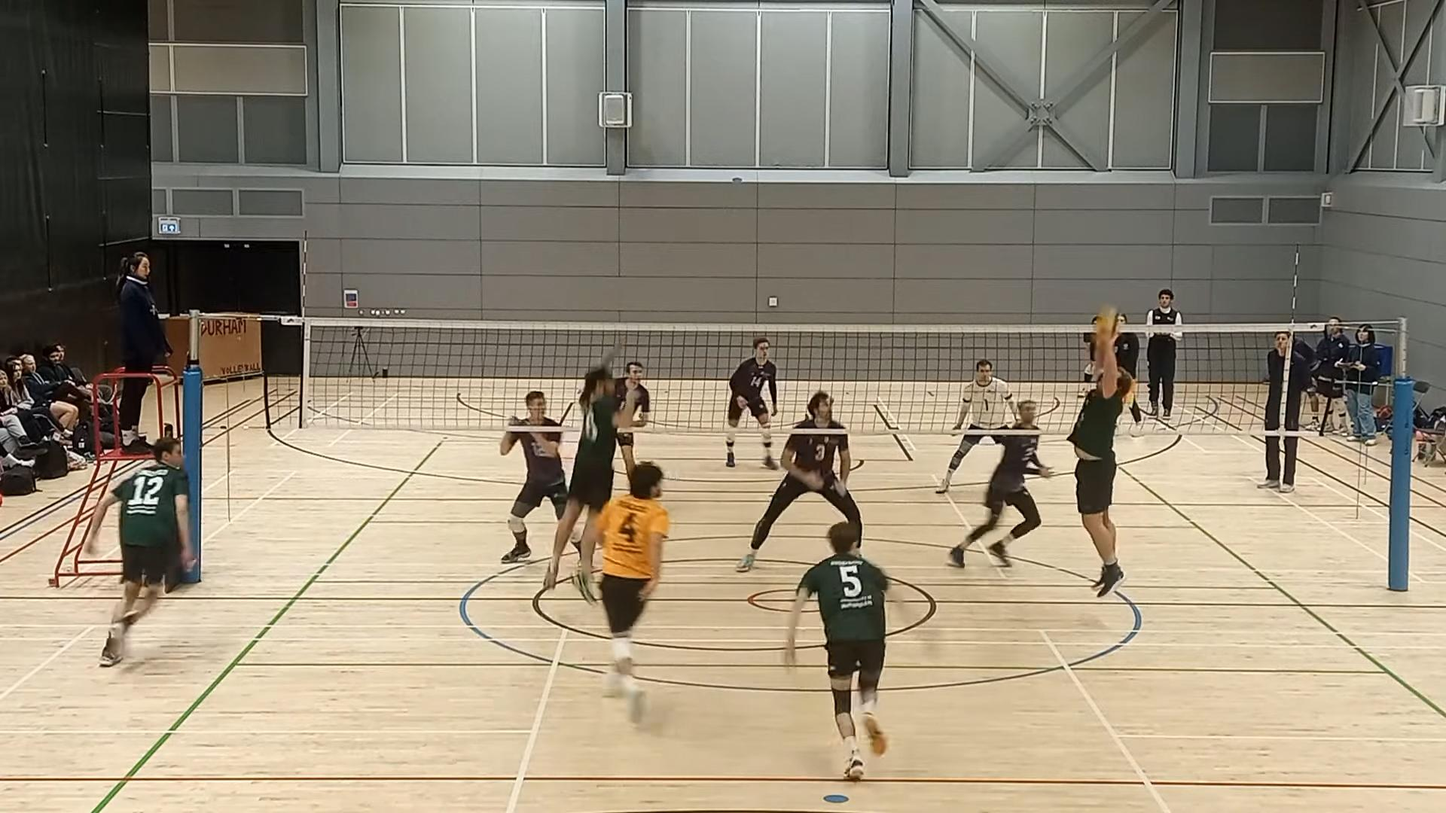alzata: (1065, 330, 1133, 601)
